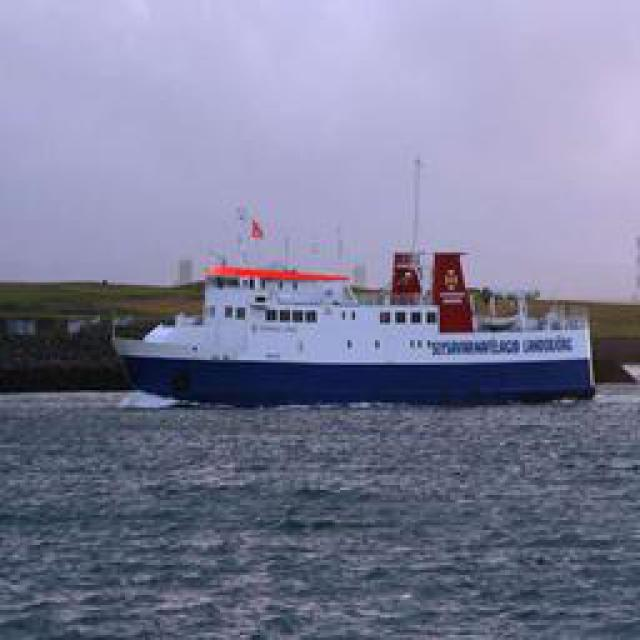Ship: (120, 180, 600, 400)
